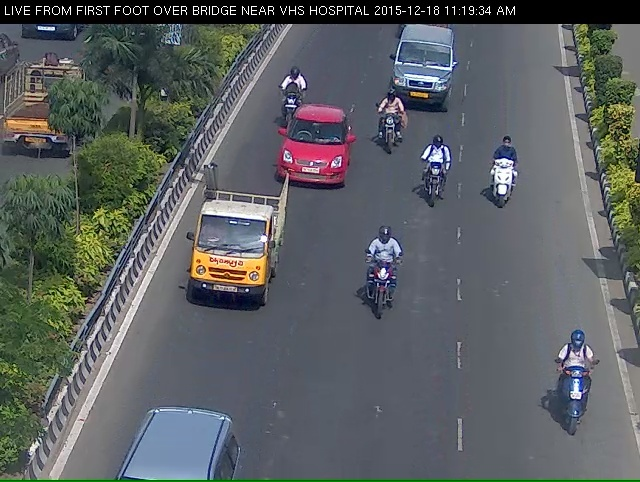Auto: (179, 181, 281, 334)
Car: (277, 116, 345, 206), (393, 26, 458, 117)
Person: (555, 340, 605, 455), (357, 245, 408, 350), (408, 144, 456, 222), (483, 143, 527, 226), (371, 95, 408, 170), (262, 73, 304, 134)
